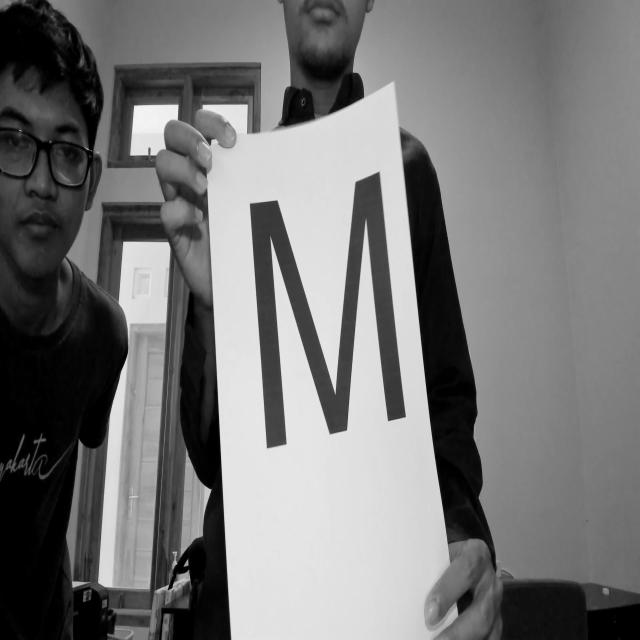m: (236, 172, 416, 456)
